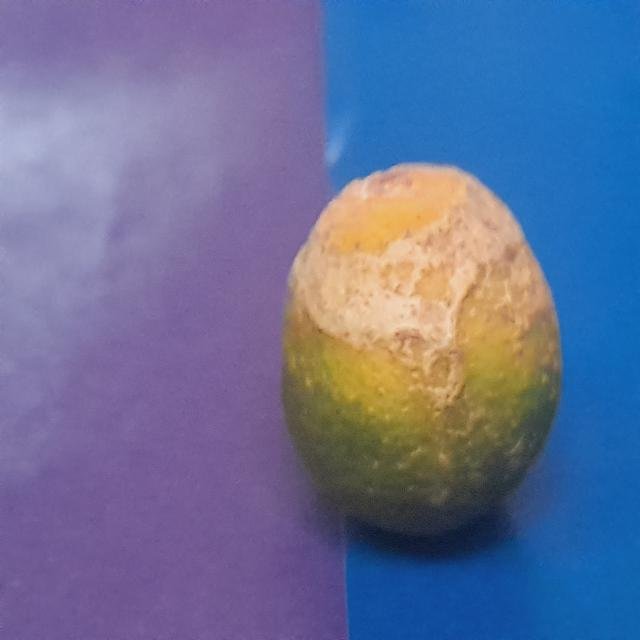thrips: (289, 158, 566, 537)
